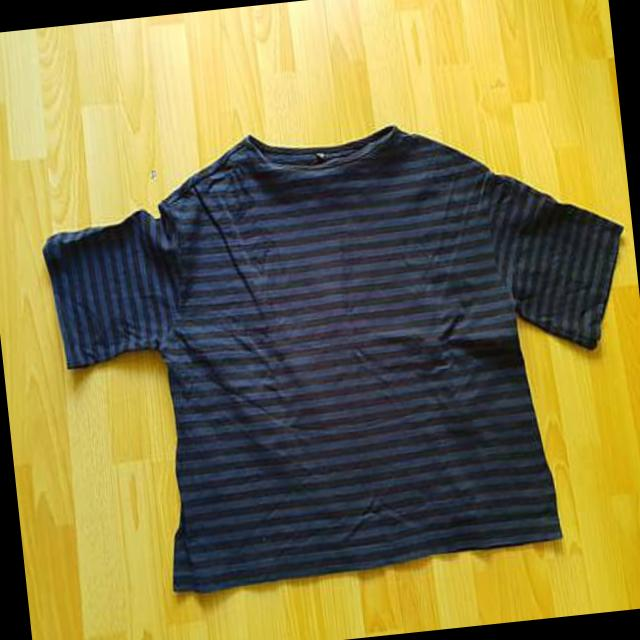T_SHIRT: (15, 92, 640, 621)
